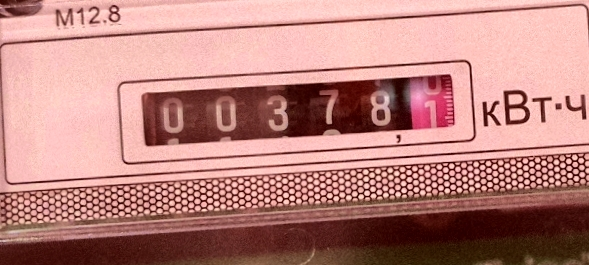0: (159, 93, 188, 134), (212, 92, 238, 132), (421, 73, 443, 95)
1: (421, 96, 441, 128)
3: (264, 91, 291, 132)
7: (316, 86, 341, 125)
8: (367, 86, 392, 127)
screen: (121, 55, 475, 156)
